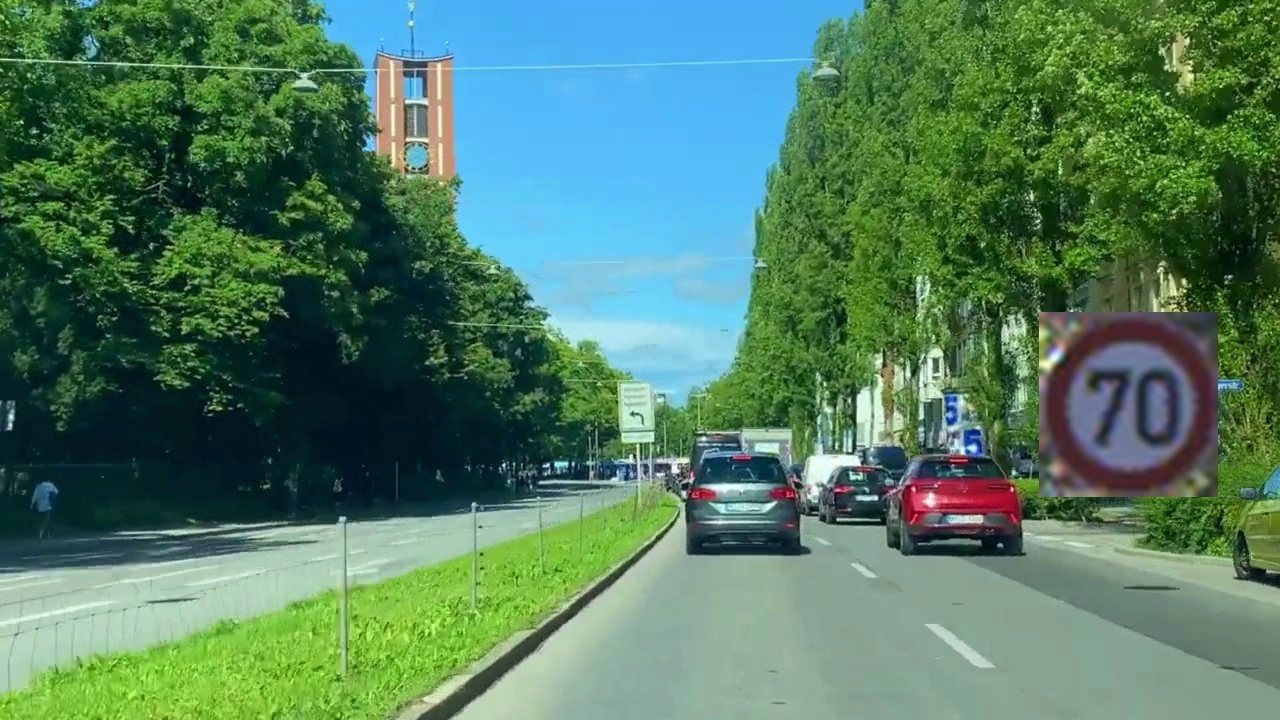Speed 70: (1039, 312, 1218, 497)
